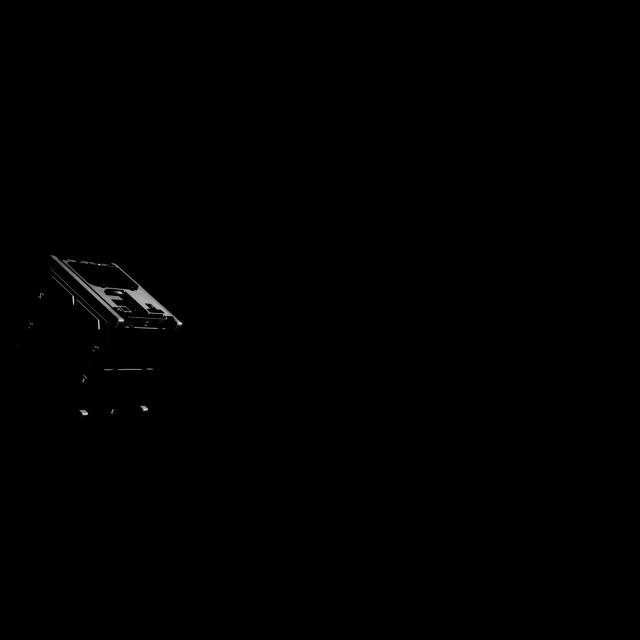satellite: (15, 252, 182, 434)
